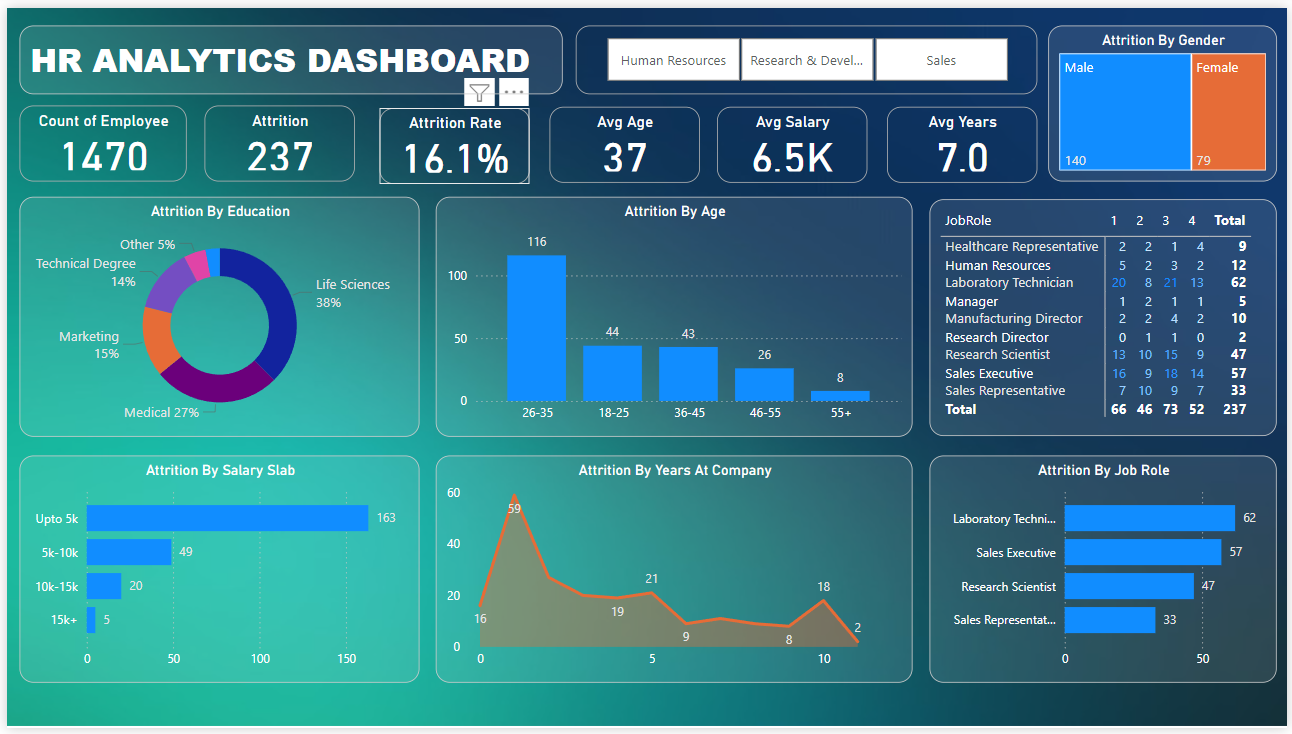

This screenshot's page, from the dashboard's own definition file:
{"tool":"powerbi","page":{"name":"Page 1","canvas":[1280,720],"ordinal":0},"visuals":[{"type":"card","title":"Count of Employee","fields":{"Values":["CountNonNull(HR_Analytics.EmpID)"]},"box":[12.9,97.1,167.1,75.7],"z":0},{"type":"card","title":"Attrition","fields":{"Values":["Sum(HR_Analytics.AttritionCount)"]},"box":[197.1,97.1,150,75.7],"z":1000},{"type":"card","title":"Attrition Rate","fields":{"Values":["HR_Analytics.AttritionRate"]},"box":[372.9,100,150,75.7],"z":2000},{"type":"card","title":"Avg Age","fields":{"Values":["Avg(HR_Analytics.Age)"]},"box":[542.9,98.6,150,75.7],"z":3000},{"type":"card","title":"Avg Salary","fields":{"Values":["Avg(HR_Analytics.MonthlyIncome)"]},"box":[710,98.6,150,75.7],"z":4000},{"type":"card","title":"Avg Years","fields":{"Values":["Avg(HR_Analytics.YearsAtCompany)"]},"box":[880,98.6,150,75.7],"z":5000},{"type":"donutChart","title":"Attrition By Education","fields":{"Category":["HR_Analytics.EducationField"],"Y":["Sum(HR_Analytics.AttritionCount)"]},"box":[12.9,188.6,400,240],"z":6000},{"type":"columnChart","title":"Attrition By Age","fields":{"Category":["HR_Analytics.AgeGroup"],"Y":["Sum(HR_Analytics.AttritionCount)"]},"box":[428.6,188.6,477.1,240],"z":7000},{"type":"pivotTable","fields":{"Rows":["HR_Analytics.JobRole"],"Columns":["HR_Analytics.JobSatisfaction"],"Values":["Sum(HR_Analytics.AttritionCount)"]},"box":[922.9,191.4,347.1,237.1],"z":8000},{"type":"barChart","title":"Attrition By Salary Slab","fields":{"Category":["HR_Analytics.SalarySlab"],"Y":["Sum(HR_Analytics.AttritionCount)"]},"box":[12.9,447.1,400,227.1],"z":9000},{"type":"barChart","title":"Attrition By Job Role","fields":{"Category":["HR_Analytics.JobRole"],"Y":["Sum(HR_Analytics.AttritionCount)"]},"box":[922.9,447.1,347.1,227.1],"z":10000},{"type":"areaChart","title":"Attrition By Years At Company","fields":{"Category":["HR_Analytics.YearsAtCompany"],"Y":["Sum(HR_Analytics.AttritionCount)"]},"box":[428.6,447.1,477.1,227.1],"z":11000},{"type":"treemap","title":"Attrition By Gender","fields":{"Group":["HR_Analytics.Gender"],"Values":["Sum(HR_Analytics.AttritionCount)"]},"box":[1041.4,17.1,228.6,155.7],"z":12000},{"type":"slicer","fields":{"Values":["HR_Analytics.Department"]},"box":[568.6,17.1,461.4,68.6],"z":13000},{"type":"textbox","box":[12.9,17.1,542.9,68.6],"z":14000}]}

Visuals, with their boxes in screenshot pixels (x1, y1, x2, y2), scaled from the page's 1280x720 canvas onto the 1292x734 screenshot:
"Count of Employee" card: box=[13, 99, 182, 176]
"Attrition" card: box=[199, 99, 350, 176]
"Attrition Rate" card: box=[376, 102, 528, 179]
"Avg Age" card: box=[548, 101, 699, 178]
"Avg Salary" card: box=[717, 101, 868, 178]
"Avg Years" card: box=[888, 101, 1040, 178]
"Attrition By Education" donutChart: box=[13, 192, 417, 437]
"Attrition By Age" columnChart: box=[433, 192, 914, 437]
pivotTable - HR_Analytics.JobRole x HR_Analytics.JobSatisfaction: box=[932, 195, 1282, 437]
"Attrition By Salary Slab" barChart: box=[13, 456, 417, 687]
"Attrition By Job Role" barChart: box=[932, 456, 1282, 687]
"Attrition By Years At Company" areaChart: box=[433, 456, 914, 687]
"Attrition By Gender" treemap: box=[1051, 17, 1282, 176]
slicer - HR_Analytics.Department: box=[574, 17, 1040, 87]
textbox: box=[13, 17, 561, 87]
